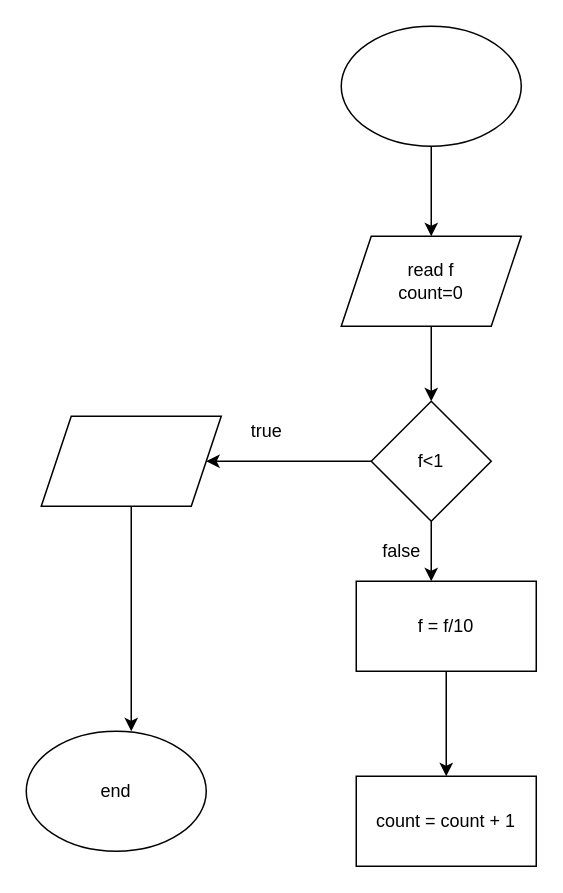
Image size: 563x893. Some labels were removed from this diagram. The shapes that lost their labels are listed below. From the top down, each one's centre as x and y in pixels, then its label:
At point (430, 85): "start".
At point (130, 460): "print count".
